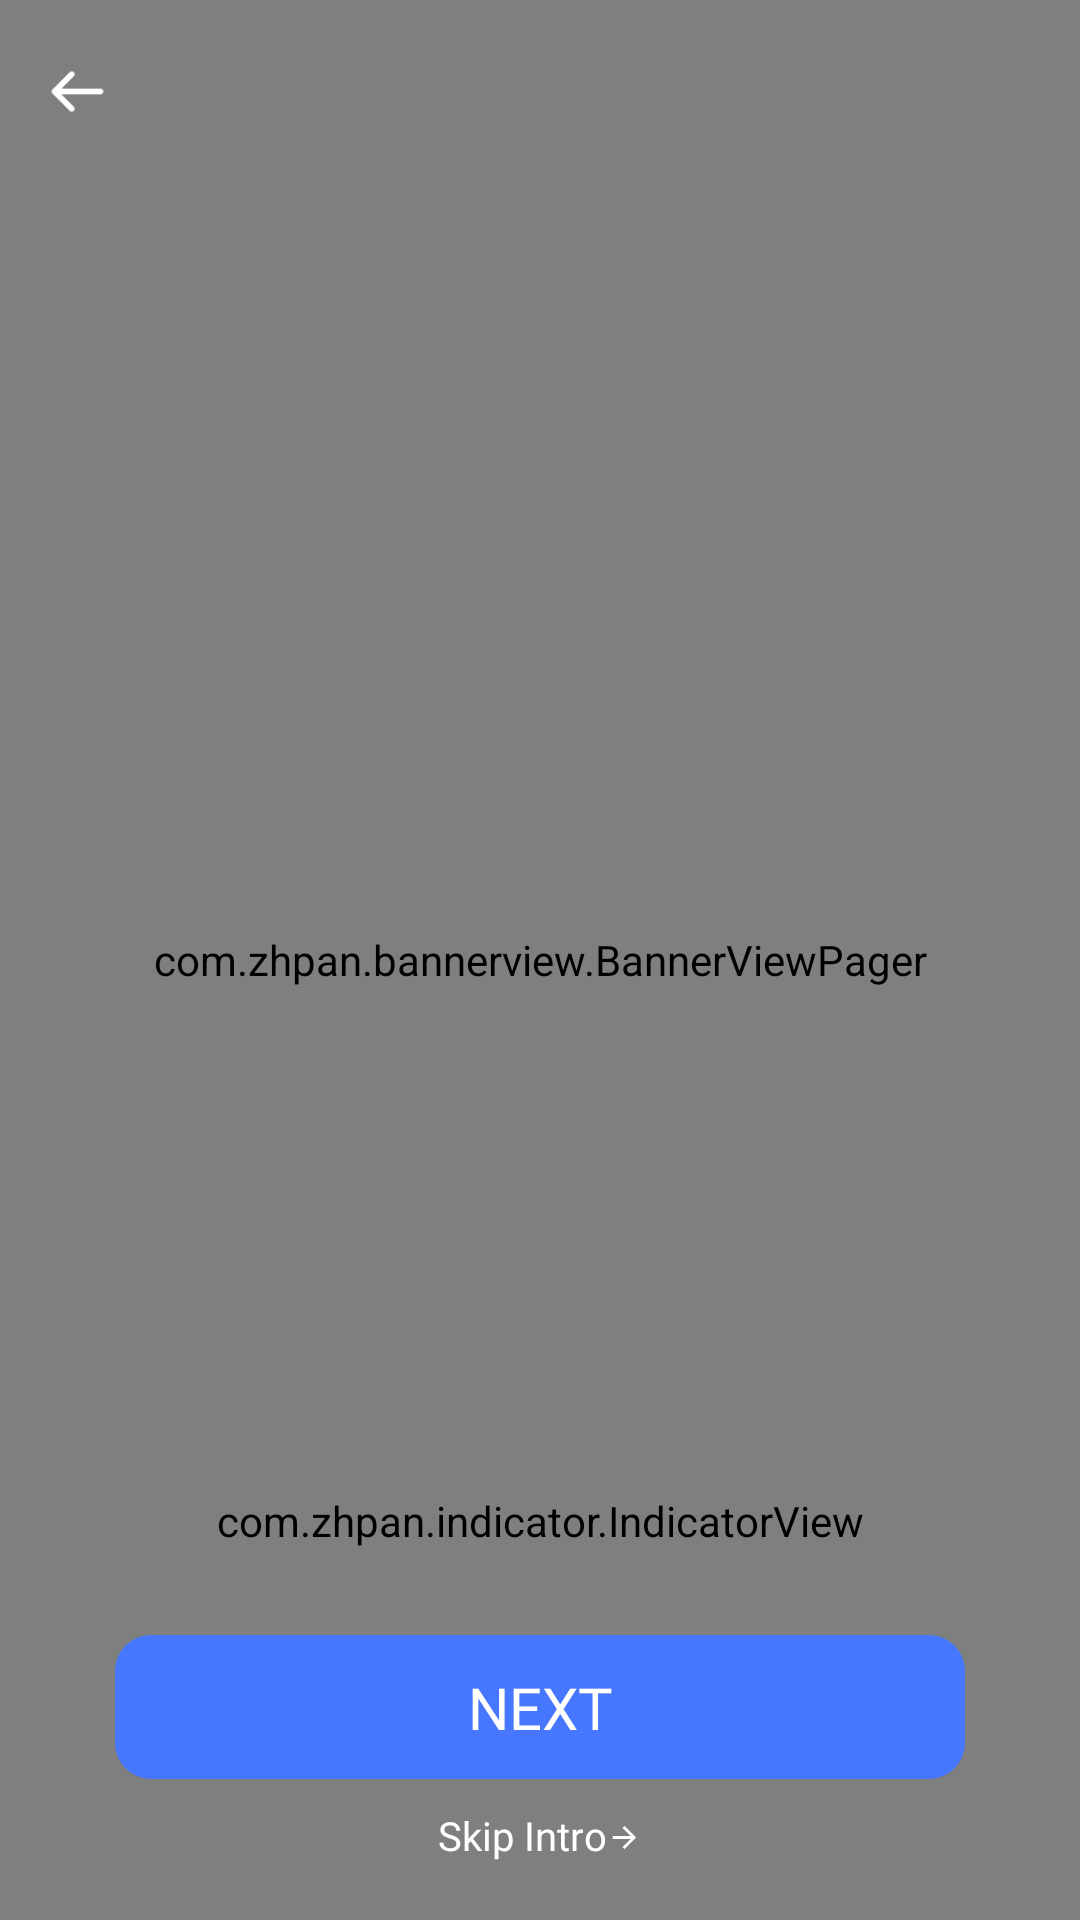

Where to tap for icons on this 1080×1920 app screen, as point (x, y):
general back: point (77, 91)
